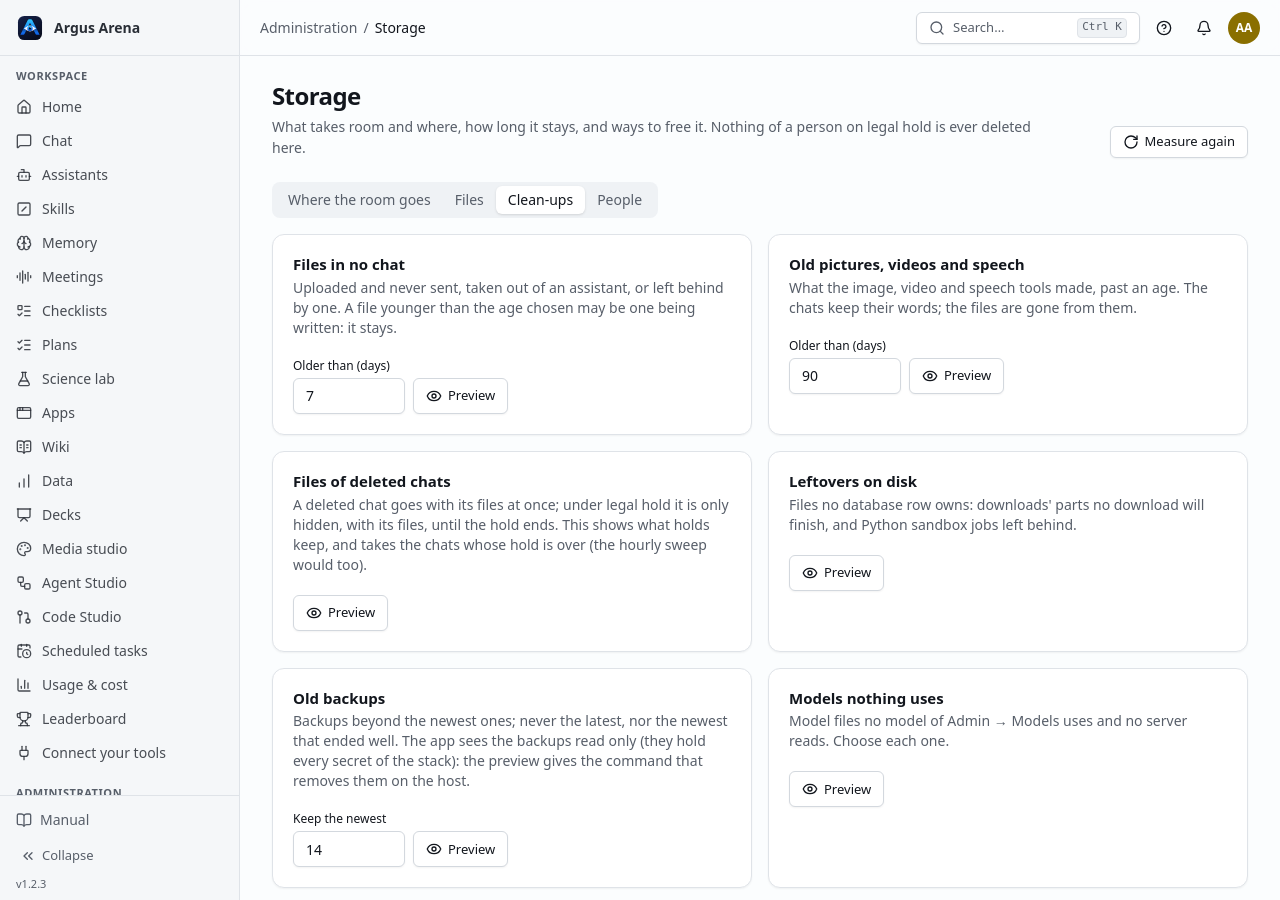
Test case: Admin → Storage › old backups are only shown, with the command that removes them on the host and what legal hold asks
The width and height of the screenshot is (1280, 900).
Replace the text in the field named "backups to keep" with "3" at [349, 849], box [293,831,405,867]
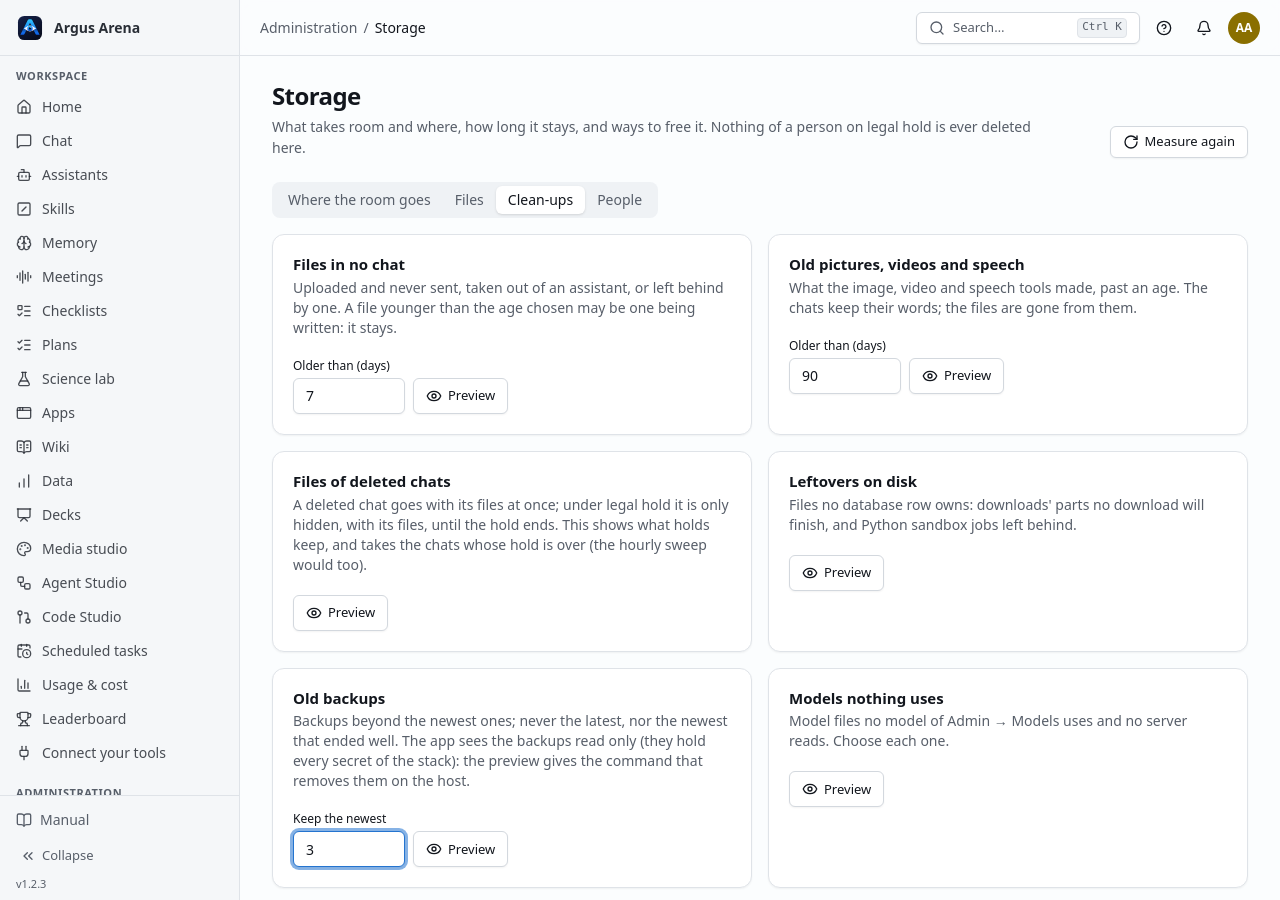
Click the button "Preview" below "Keep the newest" at [461, 849], box [413,831,508,867]
(page scrolled)
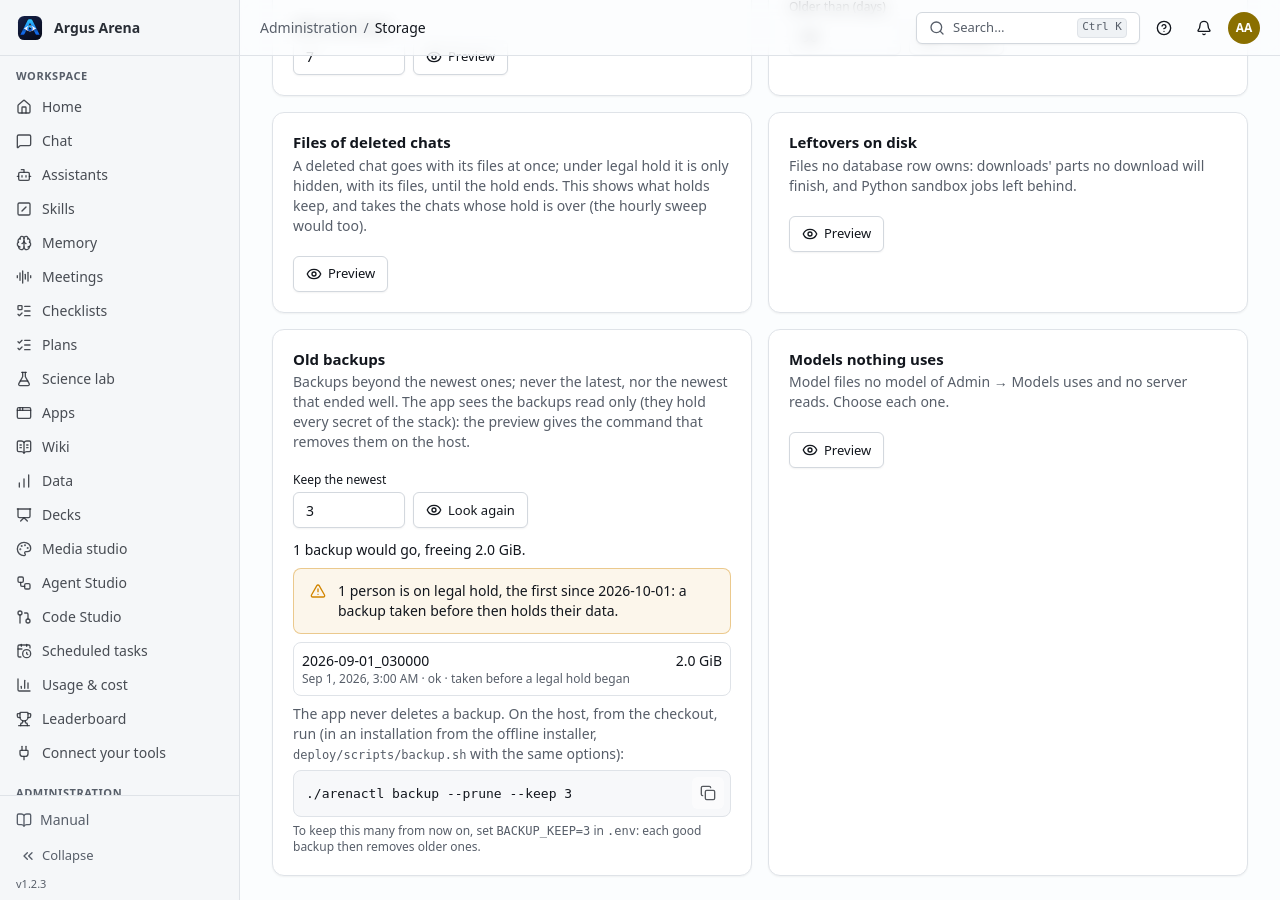
Expected: the text "./arenactl backup --prune --keep 3" is shown, [306,786,572,801]
Expected: the text "Sep 1, 2026, 3:00 AM · ok · taken before a legal hold began" is shown, [302,671,630,687]
Expected: the text "1 person is on legal hold" is shown, [338,581,686,620]
